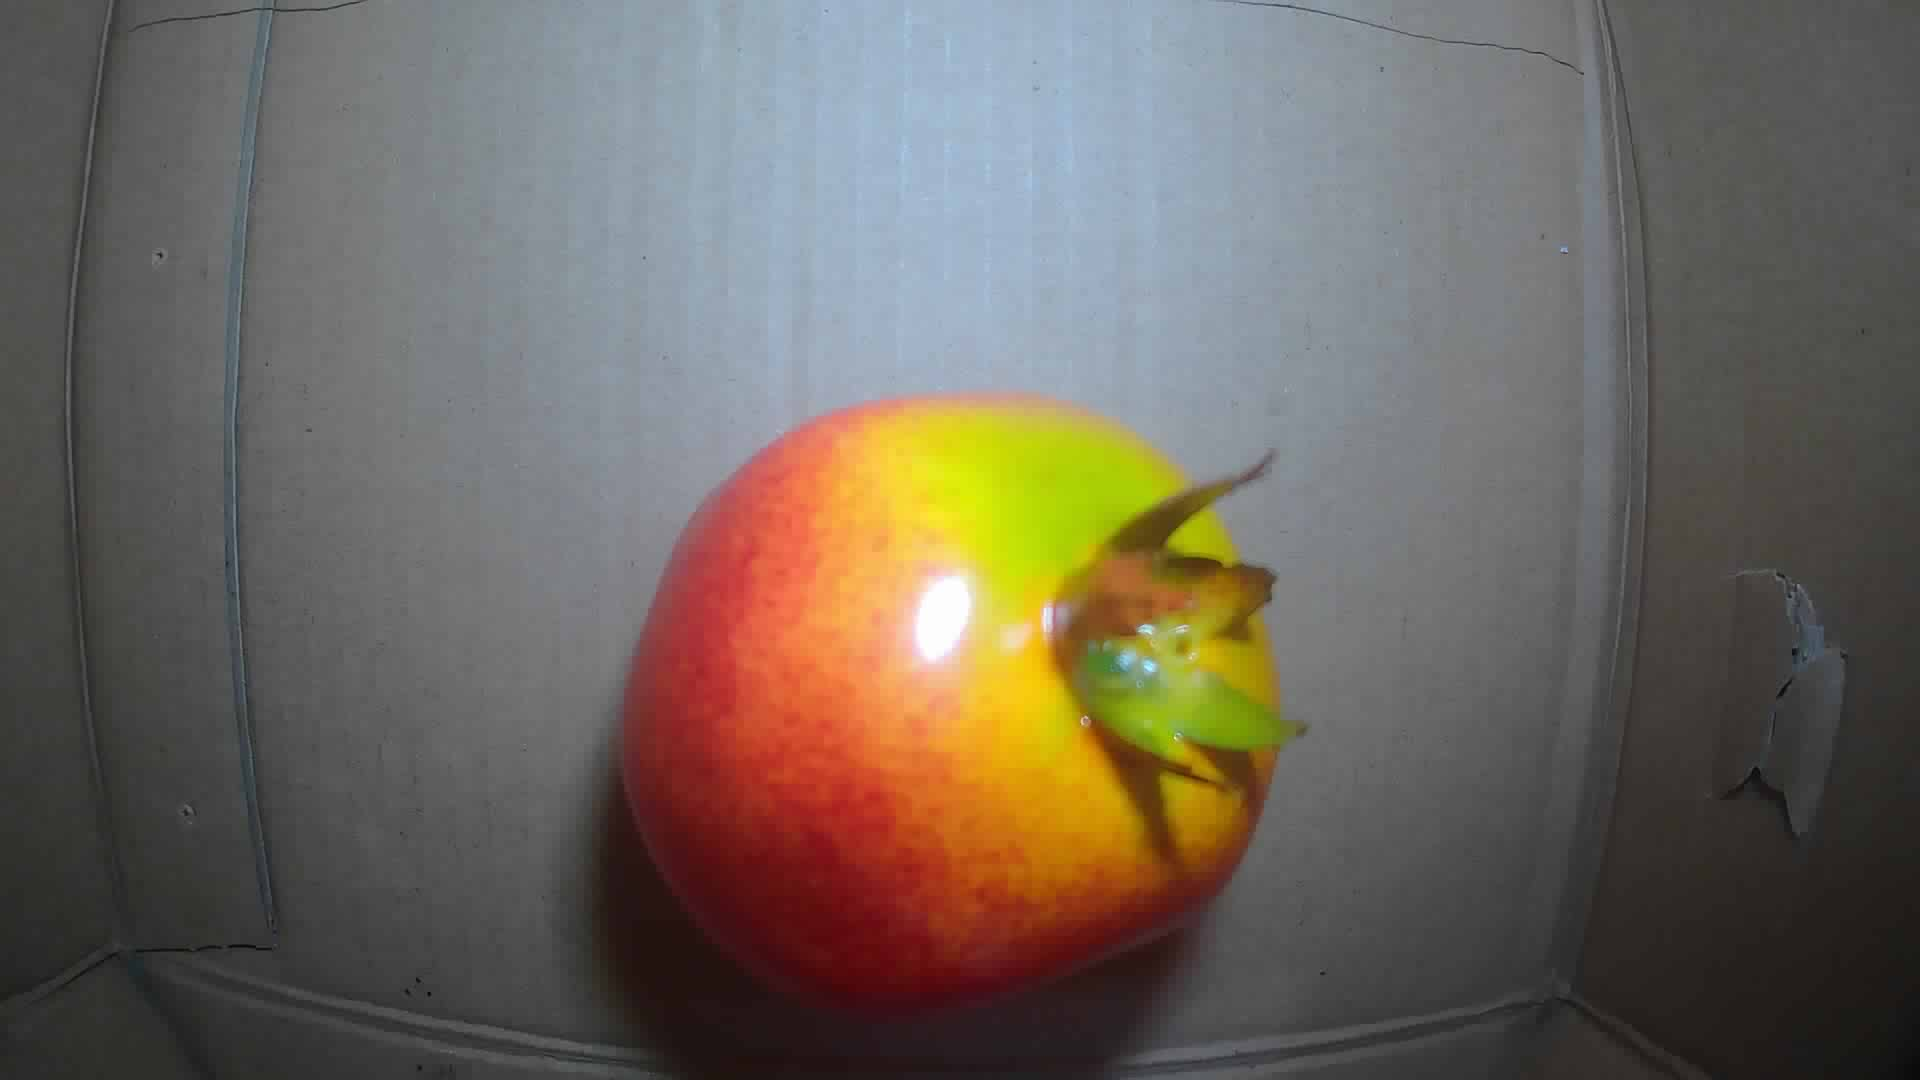pomegranate: (613, 393, 1287, 1021)
